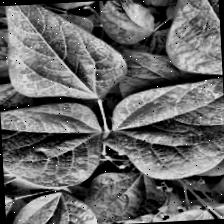Bean Rust: (2, 0, 125, 103), (108, 77, 224, 183), (0, 101, 104, 188)
